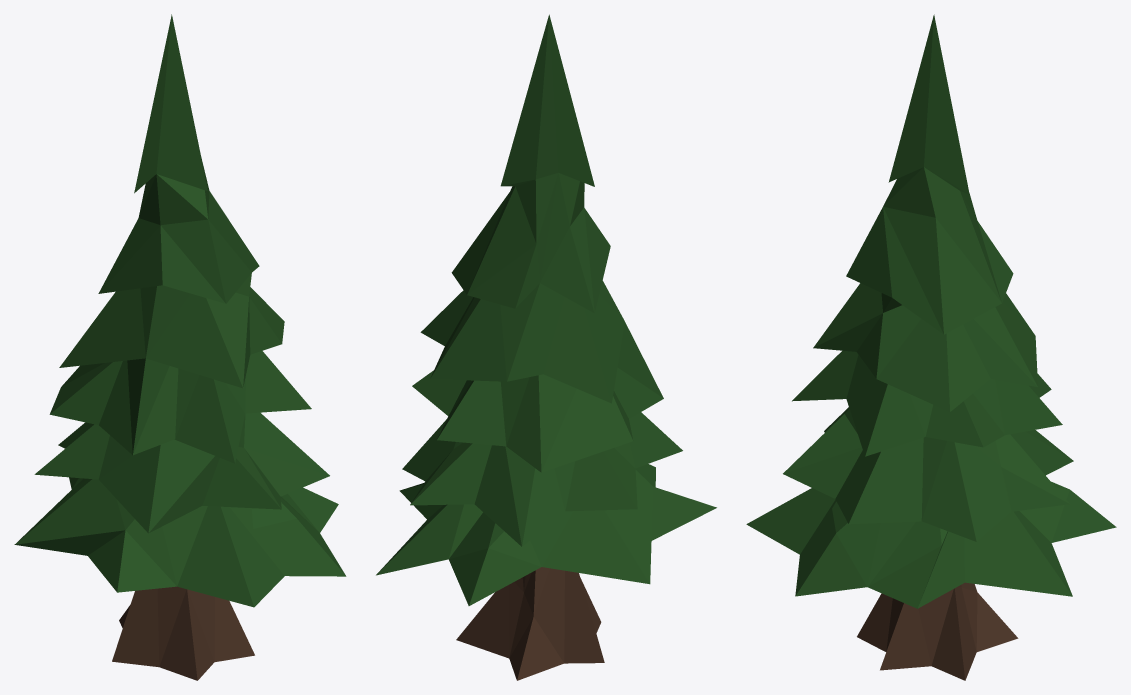
Rendered from en_PineTree.fbx.
3 views of the same model, side by side, from view 1: azimuth 30°, elevation 25°; view 2: azimuth 150°, elevation 25°; view 3: azimuth 270°, elevation 25° (orthographic).
Visible parts, largest first — view 1: mesh_PineTree; view 2: mesh_PineTree; view 3: mesh_PineTree.
Part boxes in pixels (x1,y1,x2,y2): mesh_PineTree: (14,14,346,680); mesh_PineTree: (376,14,716,680); mesh_PineTree: (746,14,1116,680).
Size of the model in its own units: 5.34 by 6.01 by 11.26.
